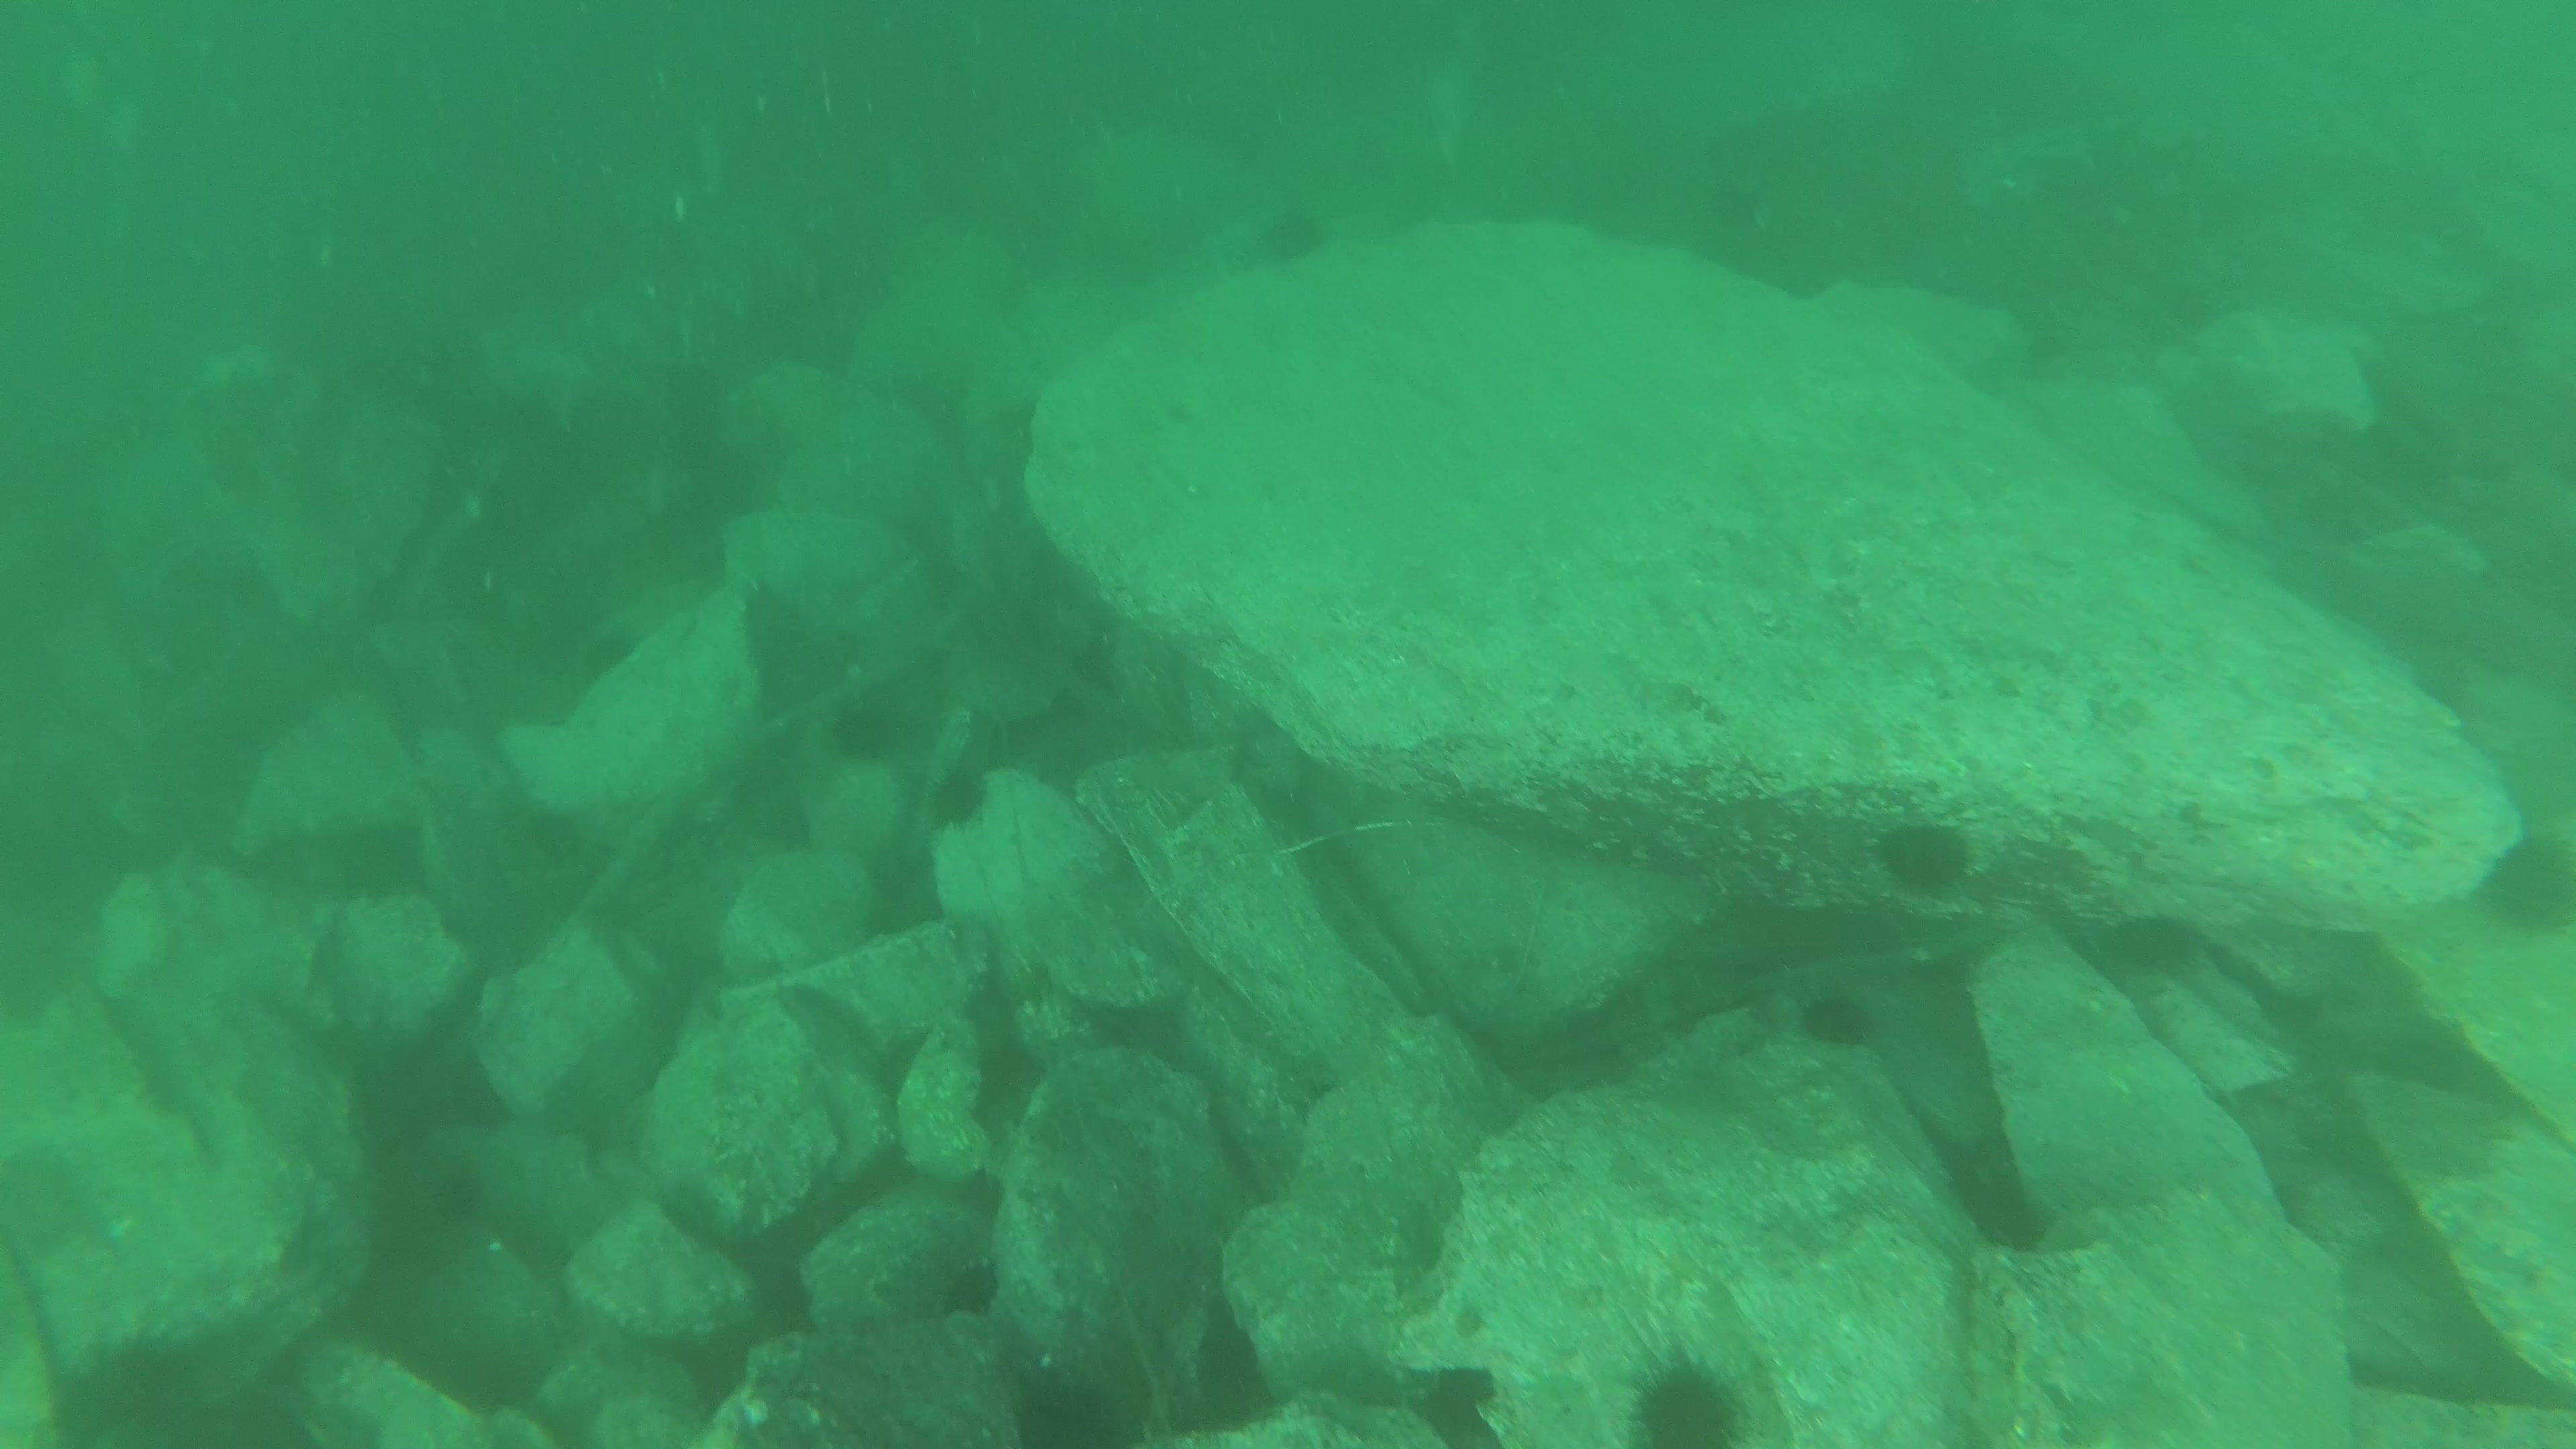echinus: (50, 1338, 212, 1449), (1633, 1353, 1746, 1449), (2491, 828, 2576, 938), (1882, 823, 1969, 906), (734, 582, 801, 653), (830, 699, 899, 764), (1263, 209, 1330, 271), (1805, 993, 1874, 1049), (925, 768, 989, 828)
